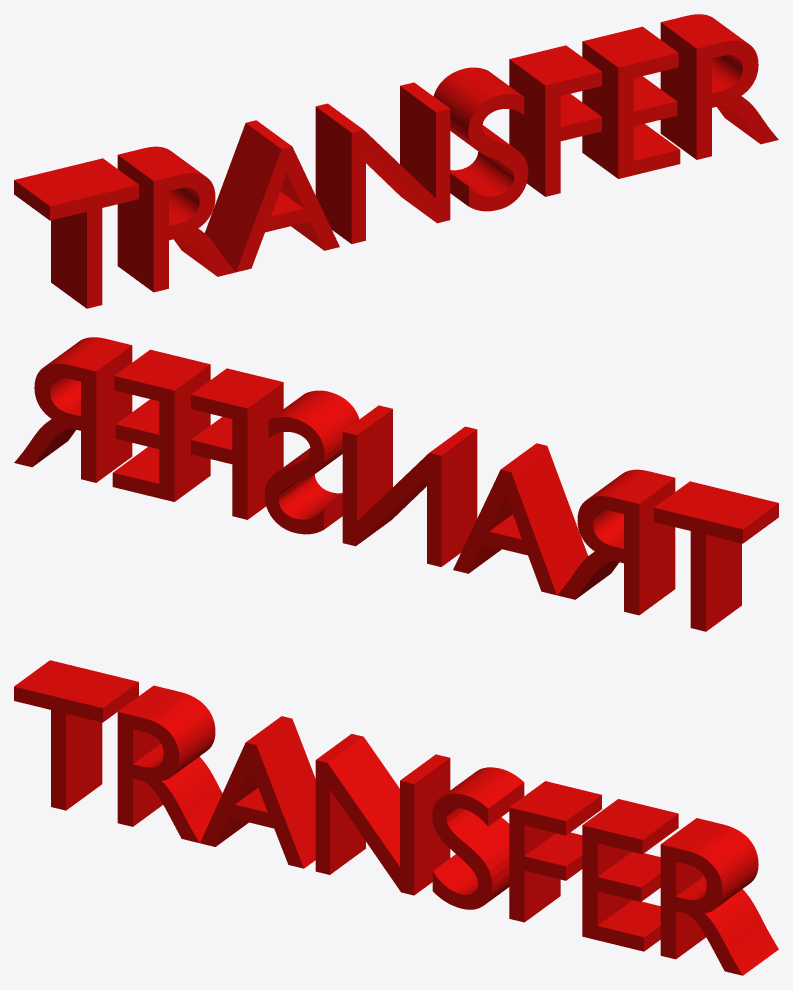
File: TransferTextModel.fbx
The picture shows the model from 3 angles, top to bottom: view 1: azimuth 30°, elevation 25°; view 2: azimuth 150°, elevation 25°; view 3: azimuth 330°, elevation 25°; orthographic projection.
Parts seen in each view (by area): view 1: Text; view 2: Text; view 3: Text.
Part boxes in pixels (x1,y1,x2,y2): Text: (14,14,778,308); Text: (14,337,778,631); Text: (14,660,778,975).
Bounding box in the file's own units: 467 × 70 × 40.
